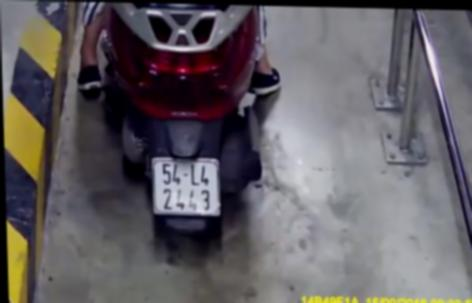License_Plate: (146, 155, 229, 223)
